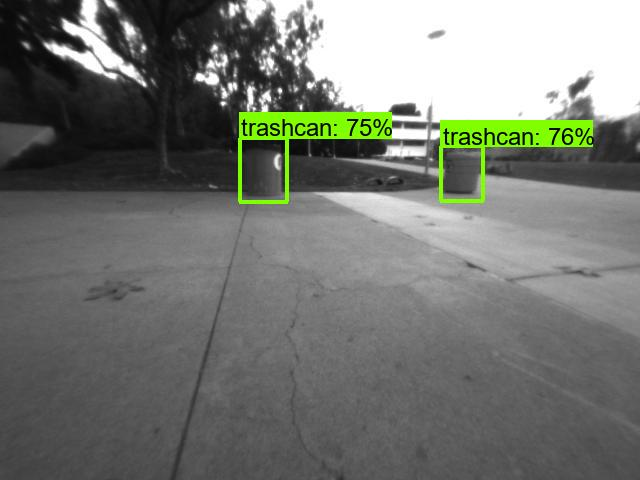trashcan: (241, 141, 285, 201), (441, 144, 484, 196)
